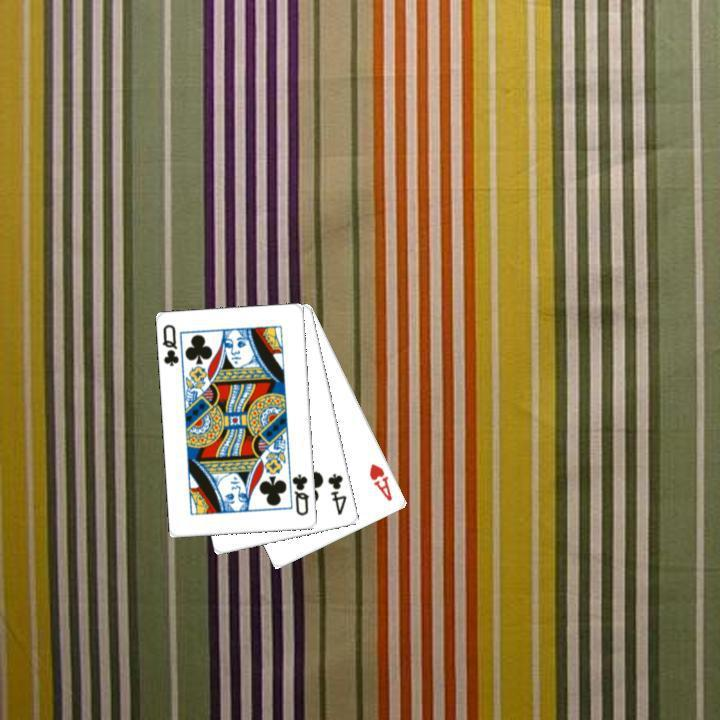4: (324, 469, 349, 517)
A: (365, 459, 395, 503)
Q: (288, 470, 311, 518), (159, 320, 181, 368)
